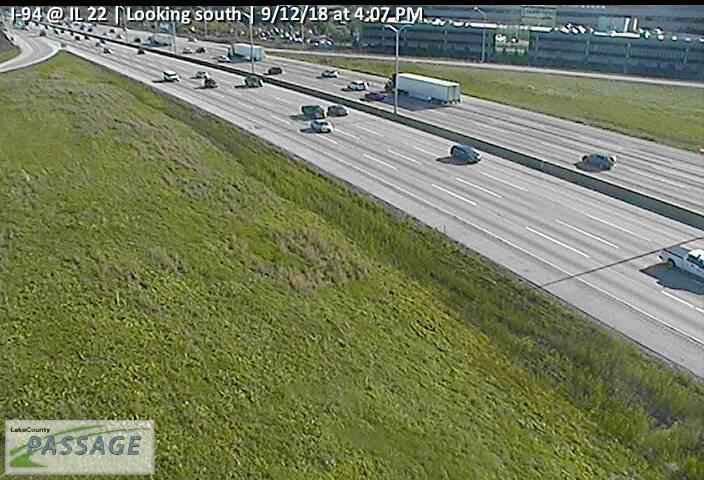Sedan: (447, 143, 482, 163), (580, 152, 617, 169), (301, 102, 324, 118), (311, 118, 333, 132), (346, 80, 370, 92), (363, 90, 388, 101), (327, 104, 349, 114)
Truck: (385, 70, 461, 105), (656, 244, 704, 278), (322, 69, 340, 77)
